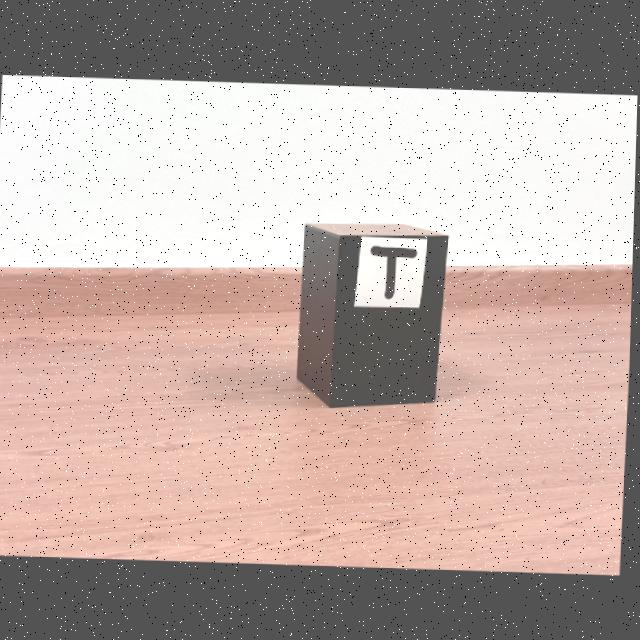T: (372, 244, 418, 297)
